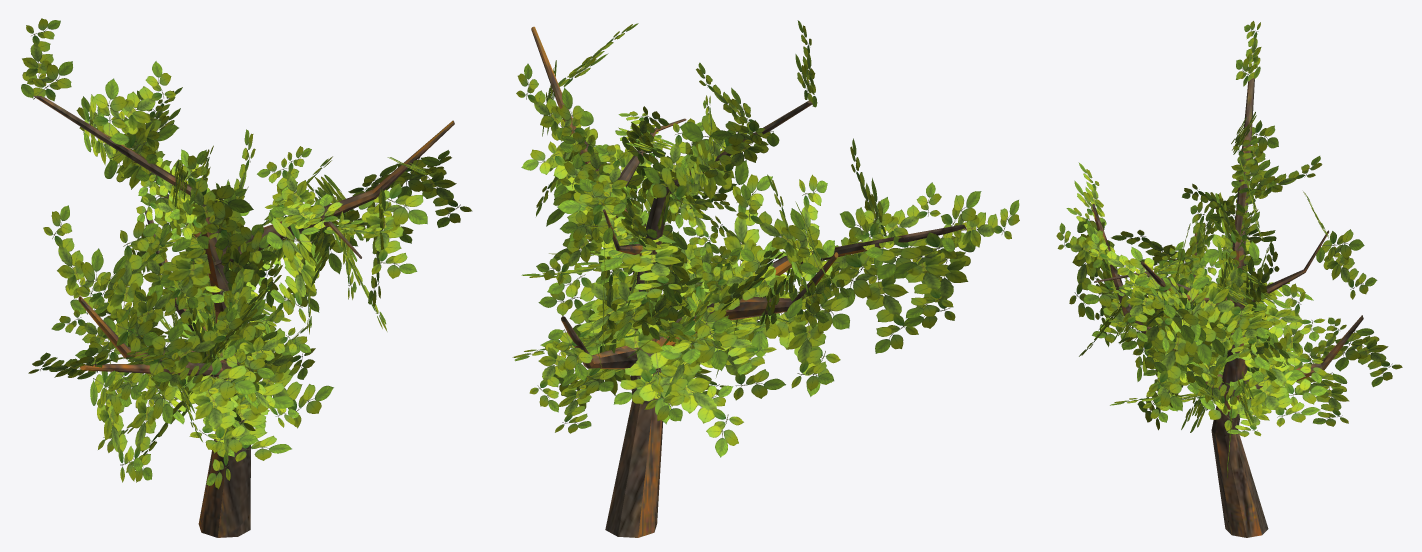
Rendered from tree-green_1.fbx.
3 views of the same model, side by side, from view 1: azimuth 30°, elevation 25°; view 2: azimuth 150°, elevation 25°; view 3: azimuth 270°, elevation 25° (orthographic). The views are drawn at different scales.
Parts seen in each view (by area): view 1: Cylinder.004; view 2: Cylinder.004; view 3: Cylinder.004.
Boxes of the visible parts, x1,y1,x2,y2 form: Cylinder.004: (21, 18, 472, 537); Cylinder.004: (512, 20, 1019, 537); Cylinder.004: (1056, 21, 1402, 537).
Size of the model in its own units: 621 by 687 by 503.
